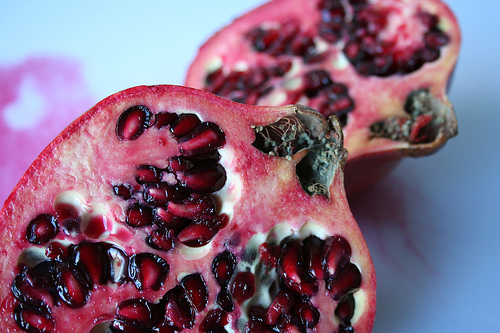pomogranate: (0, 83, 376, 331), (186, 0, 459, 161)
